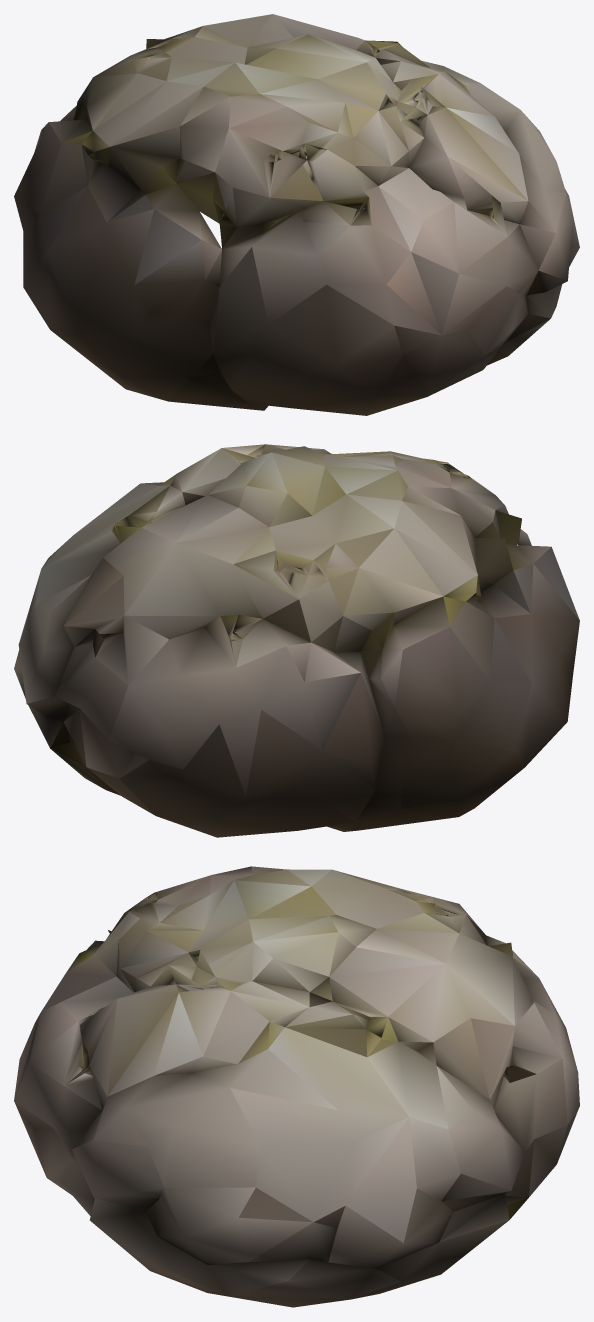
Rendered from granite_1.glb.
The picture shows the model from 3 angles, top to bottom: view 1: azimuth 30°, elevation 25°; view 2: azimuth 150°, elevation 25°; view 3: azimuth 270°, elevation 25°; orthographic projection.
Visible parts, largest first — view 1: tripo_part_0; view 2: tripo_part_0; view 3: tripo_part_0.
Boxes of the visible parts, x1,y1,x2,y2 form: tripo_part_0: (14,14,579,415); tripo_part_0: (14,444,579,837); tripo_part_0: (14,866,579,1307).
Bounding box in the file's own units: 0.9772 × 0.6186 × 0.9574.
